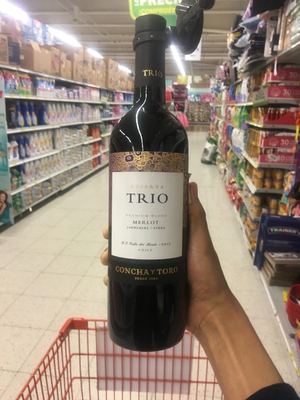trio merlot: (96, 20, 209, 363)
